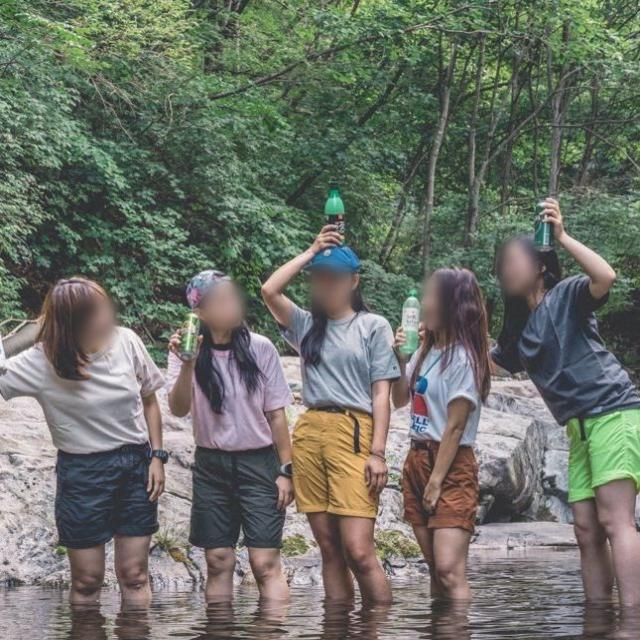shortpants: (51, 444, 159, 546), (290, 405, 380, 519), (190, 447, 284, 551), (562, 402, 640, 505), (400, 438, 479, 536)
shortsleeve: (488, 270, 640, 423), (0, 324, 163, 449), (168, 326, 296, 452), (279, 301, 402, 413), (402, 335, 482, 447)
